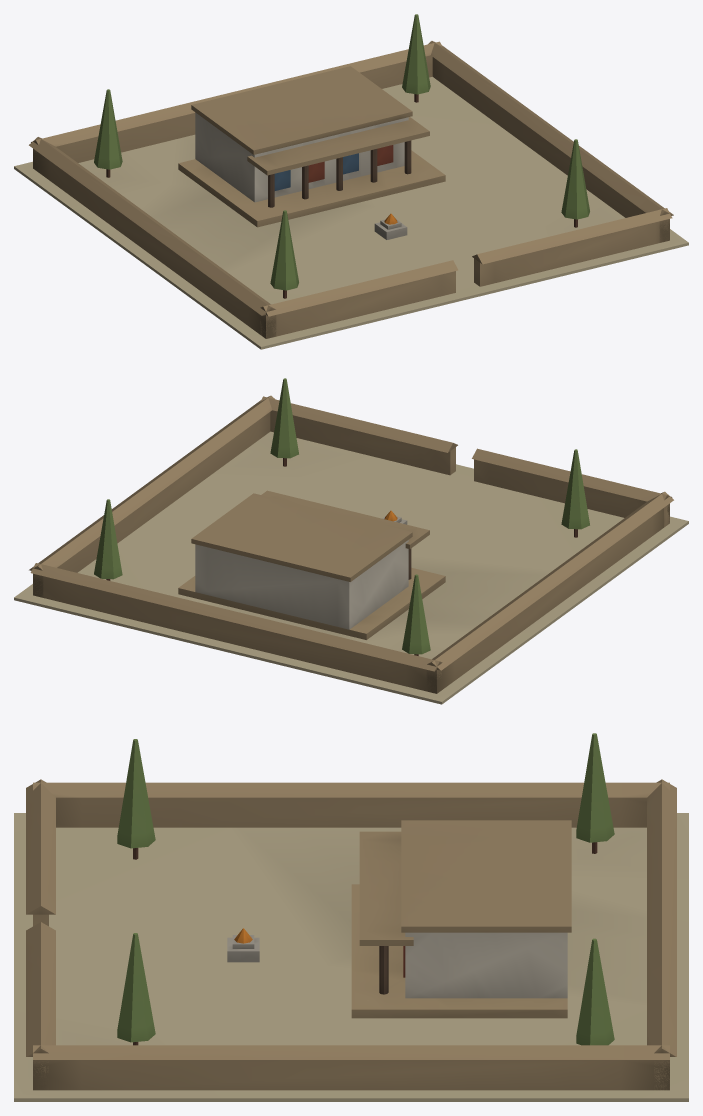
File: xian-shrine.glb
The picture shows the model from 3 angles, top to bottom: view 1: azimuth 30°, elevation 25°; view 2: azimuth 150°, elevation 25°; view 3: azimuth 270°, elevation 25°; orthographic projection. The views are drawn at different scales.
Parts seen in each view (by area): view 1: p0_walls, p1_hall, p2_trees; view 2: p0_walls, p1_hall, p2_trees; view 3: p0_walls, p1_hall, p2_trees.
Part boxes in pixels (bbox=[...]): p0_walls: bbox=[14, 41, 688, 349]; p1_hall: bbox=[178, 66, 445, 227]; p2_trees: bbox=[94, 14, 589, 298]; p0_walls: bbox=[14, 395, 688, 704]; p1_hall: bbox=[178, 490, 445, 639]; p2_trees: bbox=[94, 378, 589, 655]; p0_walls: bbox=[14, 779, 688, 1101]; p1_hall: bbox=[351, 820, 571, 1018]; p2_trees: bbox=[117, 733, 614, 1045].
Bounding box in the file's own units: 50 × 10 × 50.
